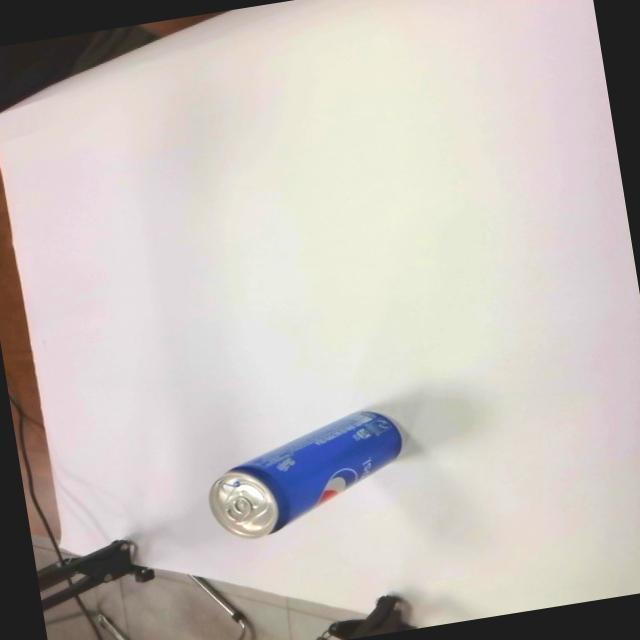debris: (196, 404, 414, 546)
